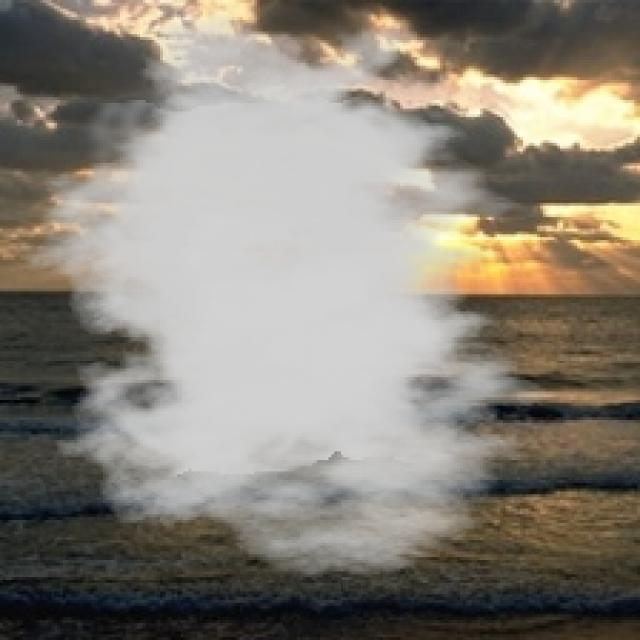smoke: (14, 12, 580, 577)
